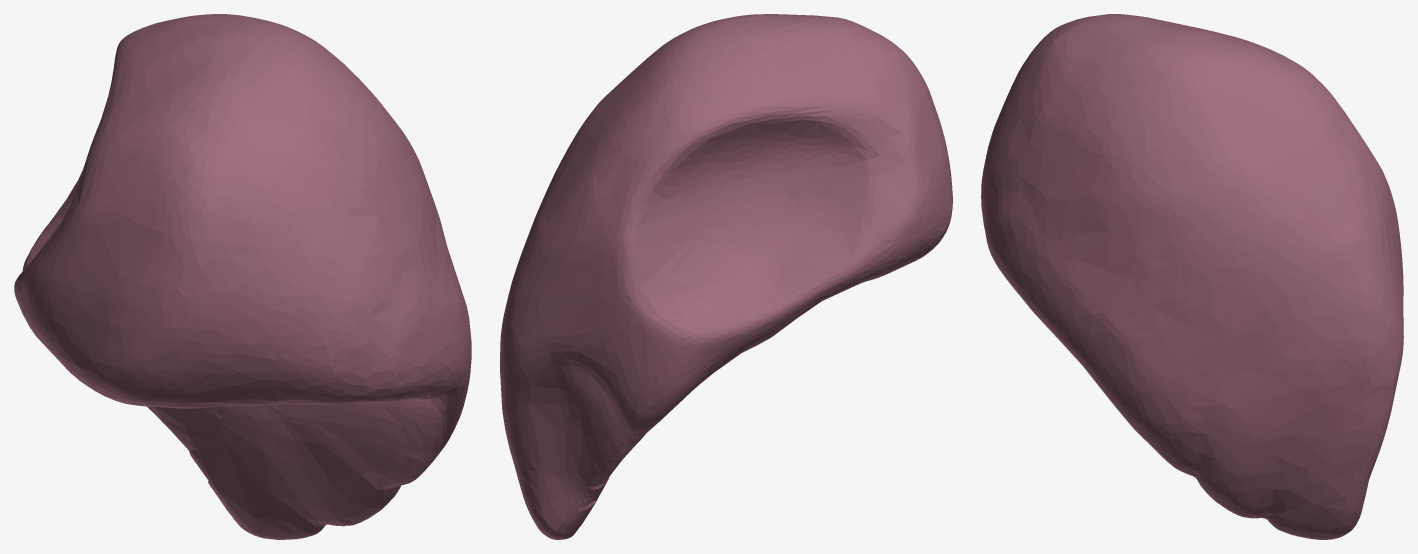
The model's file is rate.glb.
3 views of the same model, side by side, from view 1: azimuth 30°, elevation 25°; view 2: azimuth 150°, elevation 25°; view 3: azimuth 270°, elevation 25° (orthographic). The views are drawn at different scales.
Parts seen in each view (by area): view 1: FMA7196.stl; view 2: FMA7196.stl; view 3: FMA7196.stl.
Part boxes in pixels (x1=…): FMA7196.stl: x1=14, y1=14, x2=471, y2=539; FMA7196.stl: x1=500, y1=14, x2=952, y2=539; FMA7196.stl: x1=981, y1=14, x2=1403, y2=539.
Bounding box in the file's own units: 1.49 × 2 × 1.69.
